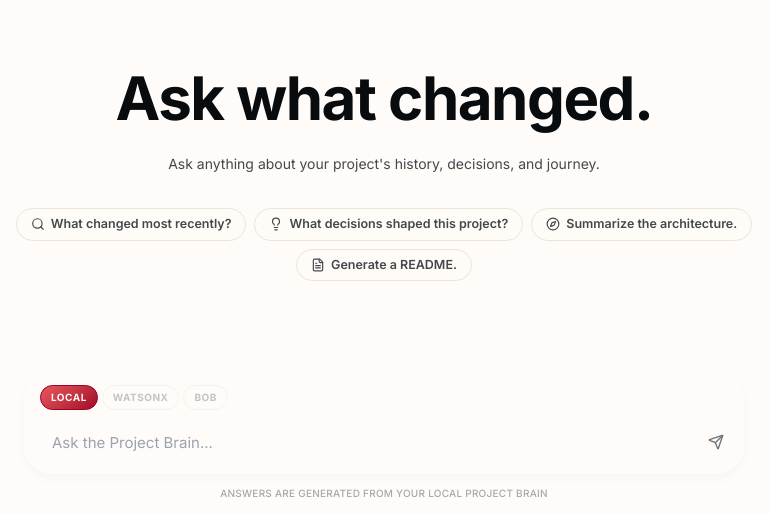
Test case: Chat › shows thinking progress while a response is pending
In the field labelled "Ask the Project Brain...": (360, 442) [32, 418, 688, 466], type "What did you capture?"
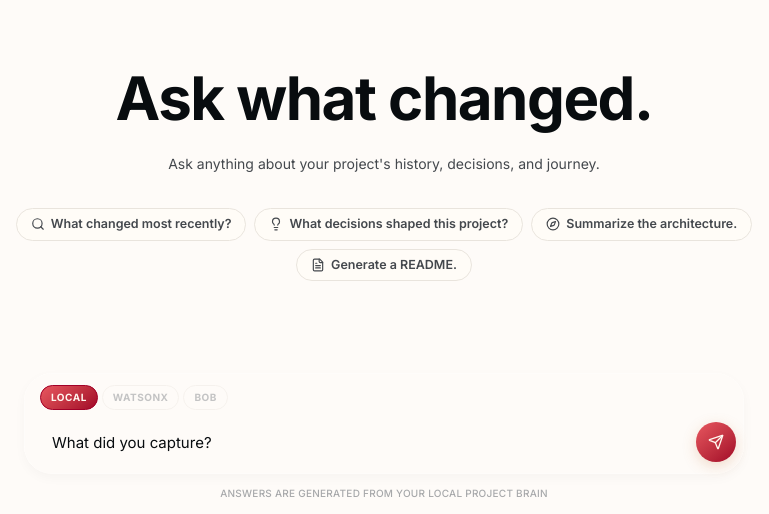
Click the button named "Send": (716, 442) [696, 422, 736, 462]
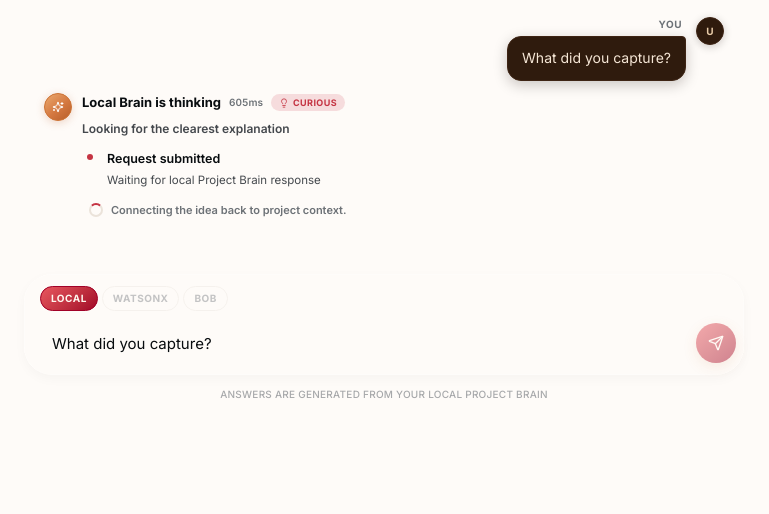
Now the message shows "Local Brain is thinking", box [44, 93, 346, 217]
Now the text "Looking for the clearest explanation" is shown, box [82, 121, 290, 136]
Now the text "Request submitted" is shown, box [107, 150, 220, 169]
